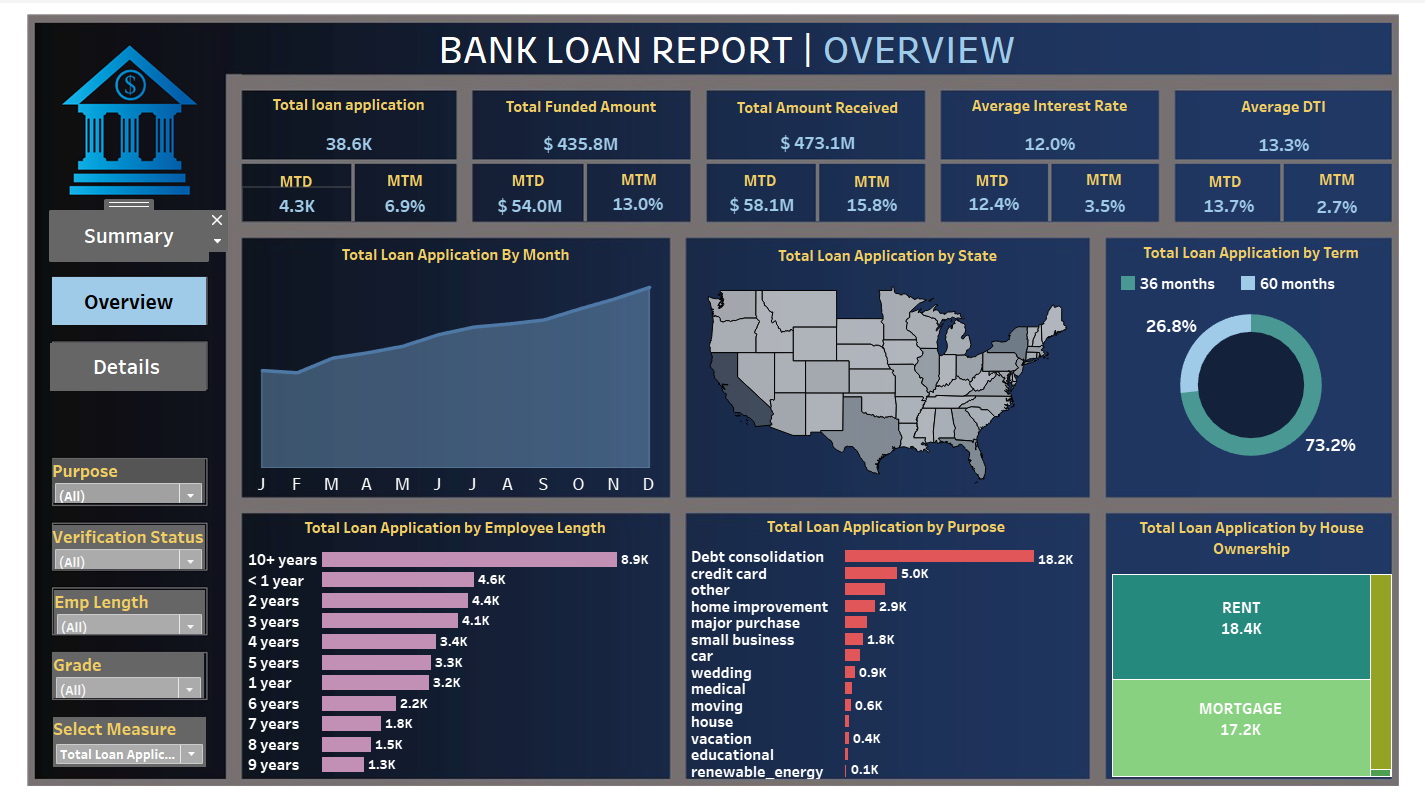

The dashboard page shown, as its layout file describes it:
{"tool":"tableau","page":{"name":"Overview","canvas":[1600,900],"ordinal":1},"visuals":[{"type":"image","param":"Image/overview-01.jpg","box":[113,11,1485,772]},{"type":"text","box":[563,27,612,37]},{"type":"worksheet","title":"Total loan application","mark":"Automatic","box":[383,87,215,69]},{"type":"worksheet","title":"Average Interest Rate","mark":"Automatic","box":[1083,88,217,67]},{"type":"worksheet","title":"Total Funded Amount","mark":"Automatic","box":[617,89,212,65]},{"type":"worksheet","title":"Average DTI","mark":"Automatic","box":[1319,89,213,67]},{"type":"worksheet","title":"Total Amount Received","mark":"Automatic","box":[853,90,213,62]},{"type":"text","box":[731,161,100,30]},{"type":"text","box":[1196,161,100,30]},{"type":"text","box":[497,162,100,30]},{"type":"text","box":[620,162,100,30]},{"type":"text","box":[852,162,100,30]},{"type":"text","box":[1084,162,100,30]},{"type":"text","box":[388,163,100,30]},{"type":"text","box":[964,163,100,30]},{"type":"text","box":[1317,163,100,30]},{"type":"text","box":[1429,164,100,25]},{"type":"worksheet","title":"MTM Total Amount Received","mark":"Automatic","box":[962,184,103,34]},{"type":"worksheet","title":"MTD Average Interest Rate","mark":"Automatic","box":[1082,184,108,32]},{"type":"worksheet","title":"MTD loan application","mark":"Automatic","box":[385,185,108,33]},{"type":"worksheet","title":"MTM Funded Amount","mark":"Automatic","box":[730,185,100,30]},{"type":"worksheet","title":"MTD Total Amount Received","mark":"Automatic","box":[849,185,109,31]},{"type":"worksheet","title":"MTM Average Interest Rate","mark":"Automatic","box":[1194,186,106,32]},{"type":"worksheet","title":"MTD Funded Amount","mark":"Automatic","box":[619,187,106,29]},{"type":"worksheet","title":"MTM loan application","mark":"Automatic","box":[497,188,100,28]},{"type":"worksheet","title":"MTD Average DTI","mark":"Automatic","box":[1317,189,107,26]},{"type":"worksheet","title":"MTM Average DTI","mark":"Automatic","box":[1426,190,106,25]},{"type":"dashboard-object","box":[193,209,156,48]},{"type":"worksheet","title":"Term","mark":"Pie","rows":["Calculation_348466054734999585","Calculation_348466054734999585"],"box":[1252,235,282,258]},{"type":"worksheet","title":"Month","mark":"Area","rows":["Calculation_348466054717231135","Calculation_348466054717231135"],"cols":["issue_date"],"box":[386,237,423,256]},{"type":"worksheet","title":"State","mark":"Multipolygon","box":[830,238,399,252]},{"type":"legend","title":"Term","param":"[federated.1gv1xnc1kj0myc11srwcw0qqfm3o].[none:term:nk]","box":[1260,270,260,23]},{"type":"dashboard-object","box":[194,274,154,48]},{"type":"dashboard-object","box":[192,340,156,48]},{"type":"filter","title":"Month","param":"[federated.1gv1xnc1kj0myc11srwcw0qqfm3o].[none:purpose:nk]","box":[194,456,153,44]},{"type":"worksheet","title":"Purpose","mark":"Automatic","rows":["purpose"],"cols":["Calculation_348466054717231135"],"box":[827,509,402,267]},{"type":"worksheet","title":"Employee Length","mark":"Automatic","rows":["emp_length"],"cols":["Calculation_348466054717231135"],"box":[384,510,426,262]},{"type":"worksheet","title":"House ","mark":"Automatic","box":[1250,510,287,267]},{"type":"filter","title":"Average DTI","param":"[federated.1gv1xnc1kj0myc11srwcw0qqfm3o].[none:verification_status:nk]","box":[194,522,153,44]},{"type":"filter","title":"Average DTI","param":"[federated.1gv1xnc1kj0myc11srwcw0qqfm3o].[none:emp_length:nk]","box":[196,587,151,44]},{"type":"filter","title":"Average DTI","param":"[federated.1gv1xnc1kj0myc11srwcw0qqfm3o].[none:grade:nk]","box":[195,650,151,45]},{"type":"parameter","param":"[Parameters].[Parameter 1]","box":[195,714,153,50]}]}

Visuals, with their boxes in screenshot pixels (x1, y1, x2, y2), scaled from the page's 1600x900 canvas onto the 1425x793 screenshot:
image: detection(101, 10, 1423, 690)
text: detection(501, 24, 1046, 56)
"Total loan application" worksheet: detection(341, 77, 533, 137)
"Average Interest Rate" worksheet: detection(965, 78, 1158, 137)
"Total Funded Amount" worksheet: detection(550, 78, 738, 136)
"Average DTI" worksheet: detection(1175, 78, 1364, 137)
"Total Amount Received" worksheet: detection(760, 79, 949, 134)
text: detection(651, 142, 740, 168)
text: detection(1065, 142, 1154, 168)
text: detection(443, 143, 532, 169)
text: detection(552, 143, 641, 169)
text: detection(759, 143, 848, 169)
text: detection(965, 143, 1054, 169)
text: detection(346, 144, 435, 170)
text: detection(859, 144, 948, 170)
text: detection(1173, 144, 1262, 170)
text: detection(1273, 145, 1362, 167)
"MTM Total Amount Received" worksheet: detection(857, 162, 949, 192)
"MTD Average Interest Rate" worksheet: detection(964, 162, 1060, 190)
"MTD loan application" worksheet: detection(343, 163, 439, 192)
"MTM Funded Amount" worksheet: detection(650, 163, 739, 189)
"MTD Total Amount Received" worksheet: detection(756, 163, 853, 190)
"MTM Average Interest Rate" worksheet: detection(1063, 164, 1158, 192)
"MTD Funded Amount" worksheet: detection(551, 165, 646, 190)
"MTM loan application" worksheet: detection(443, 166, 532, 190)
"MTD Average DTI" worksheet: detection(1173, 167, 1268, 189)
"MTM Average DTI" worksheet: detection(1270, 167, 1364, 189)
dashboard-object: detection(172, 184, 311, 226)
"Term" worksheet (Pie marks): detection(1115, 207, 1366, 434)
"Month" worksheet (Area marks): detection(344, 209, 721, 434)
"State" worksheet (Multipolygon marks): detection(739, 210, 1095, 432)
"Term" legend: detection(1122, 238, 1354, 258)
dashboard-object: detection(173, 241, 310, 284)
dashboard-object: detection(171, 300, 310, 342)
"Month" filter: detection(173, 402, 309, 441)
"Purpose" worksheet: detection(737, 448, 1095, 684)
"Employee Length" worksheet: detection(342, 449, 721, 680)
"House " worksheet: detection(1113, 449, 1369, 685)
"Average DTI" filter: detection(173, 460, 309, 499)
"Average DTI" filter: detection(175, 517, 309, 556)
"Average DTI" filter: detection(174, 573, 308, 612)
parameter: detection(174, 629, 310, 673)
